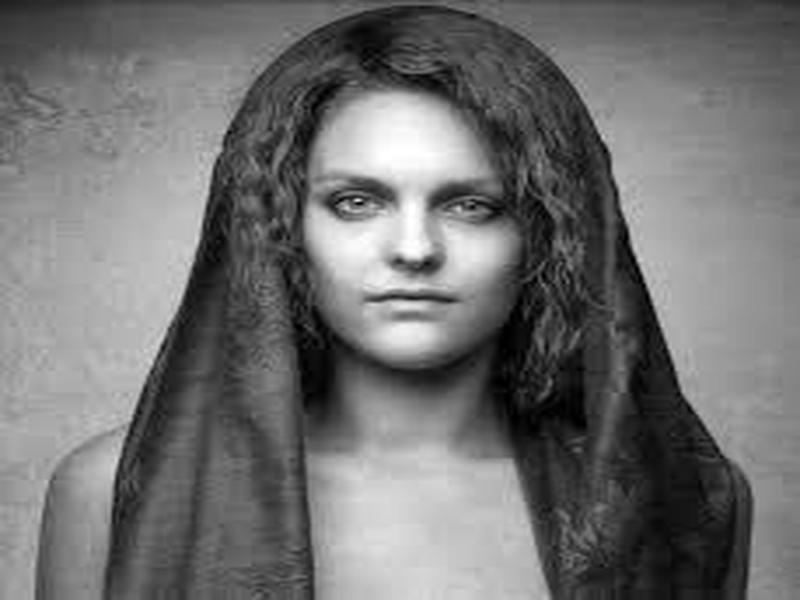without_mask: (293, 123, 525, 365)
